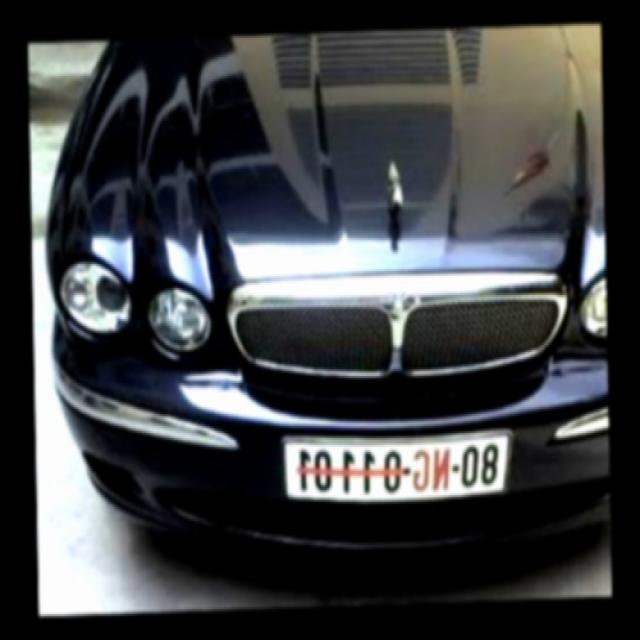bien_ngoai_giao: (281, 435, 508, 496)
